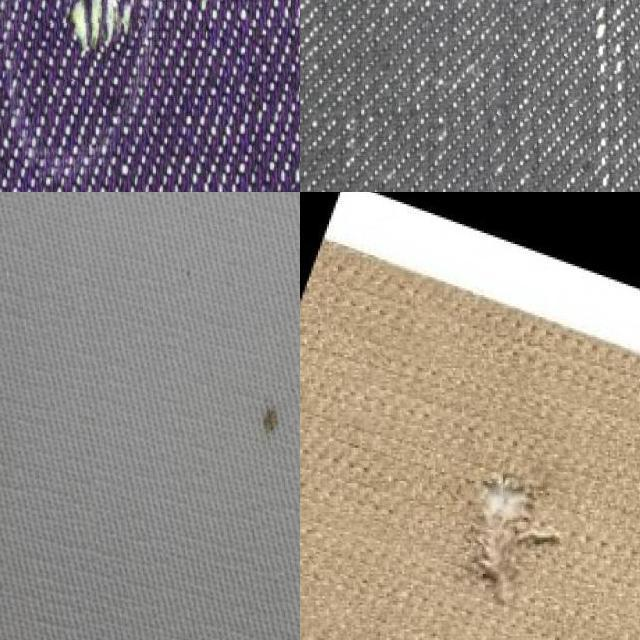Thread_other: (236, 382, 300, 456)
other: (451, 458, 561, 596)
stains: (488, 0, 640, 192), (20, 0, 146, 80)
